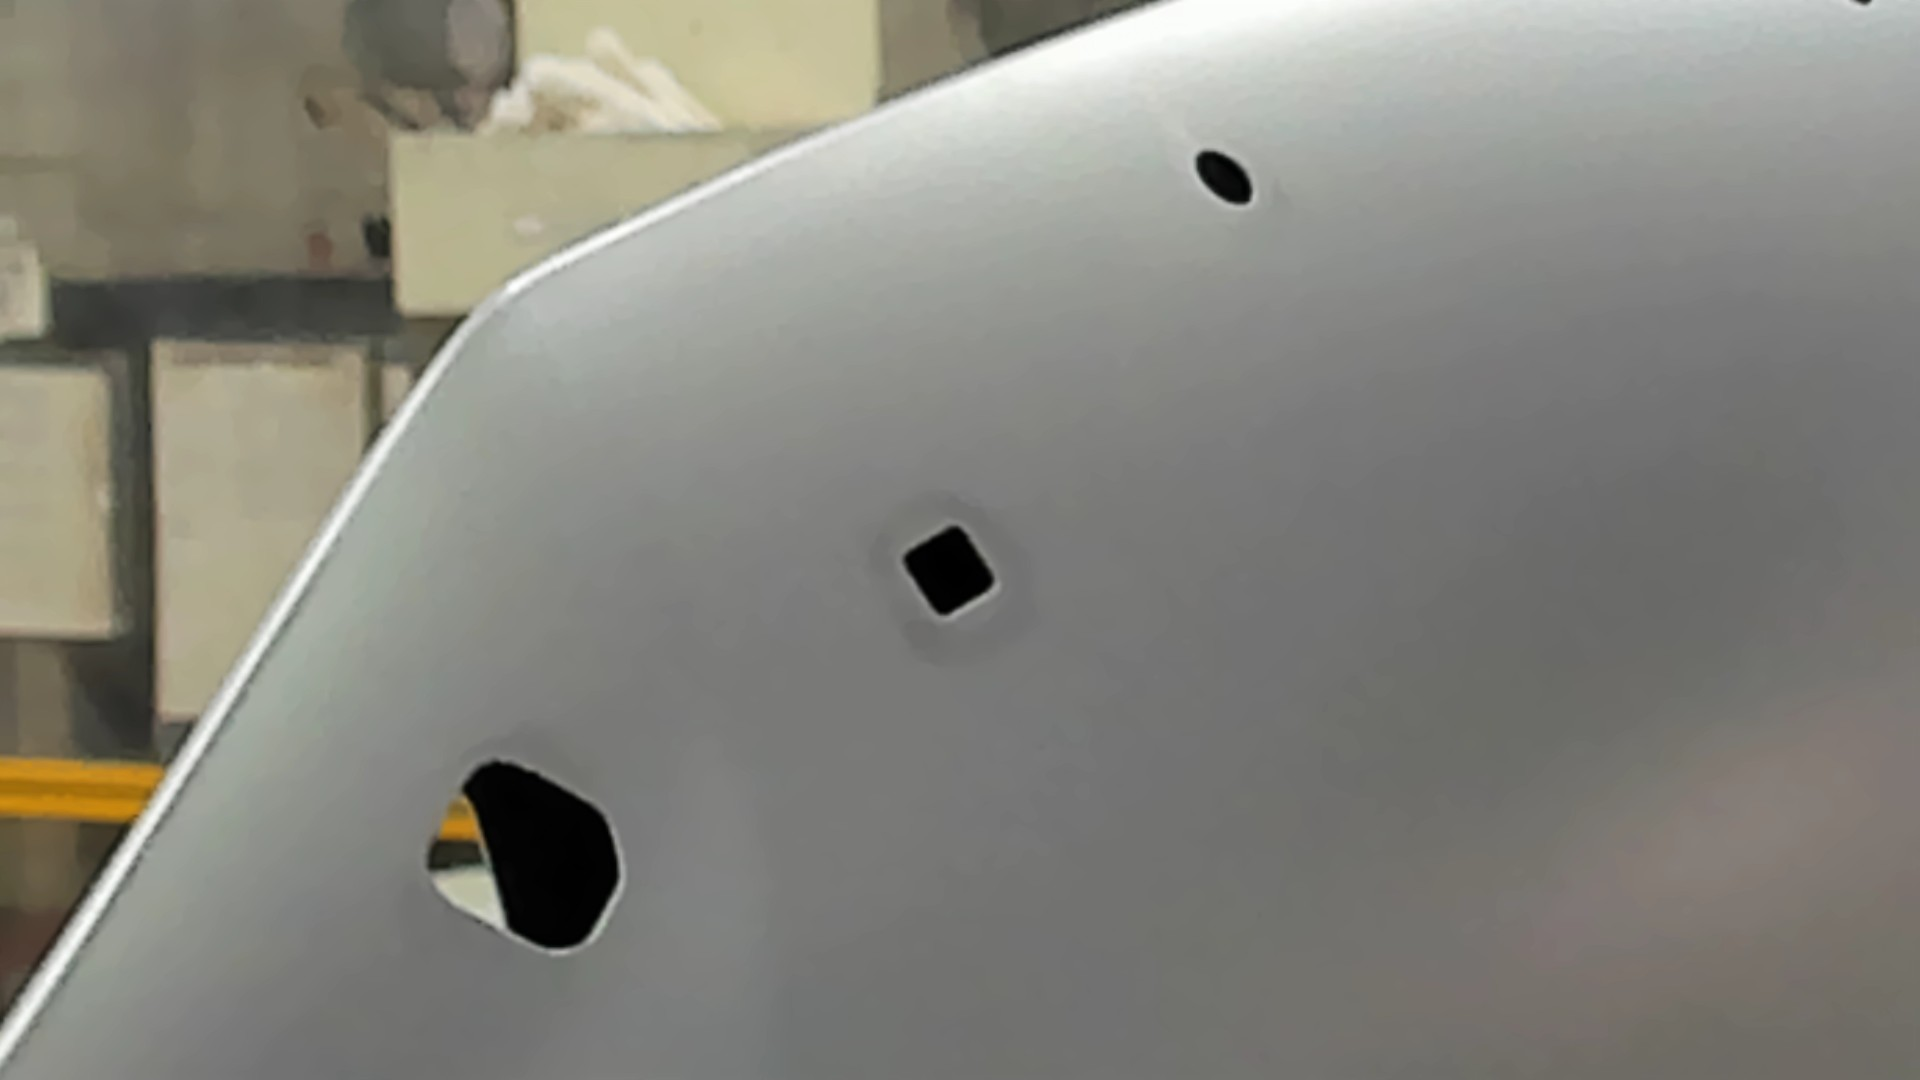chico: (1193, 146, 1261, 214)
grande: (414, 750, 634, 967)
mediano: (891, 516, 1005, 626)
